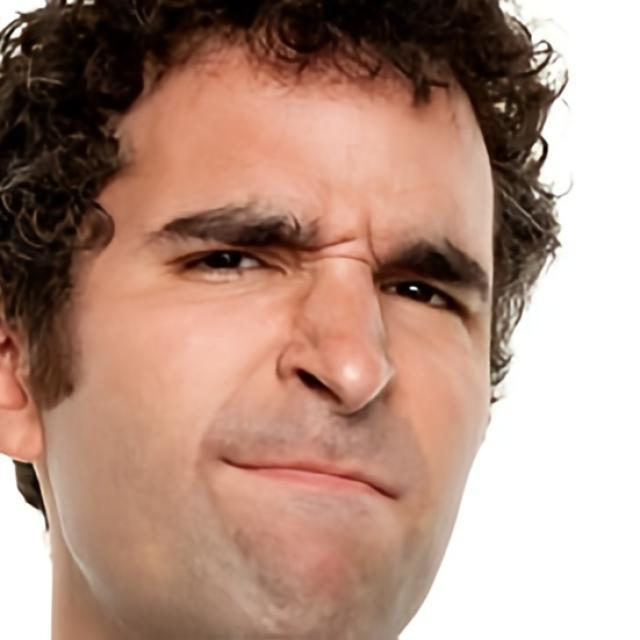anger: (70, 53, 493, 626)
